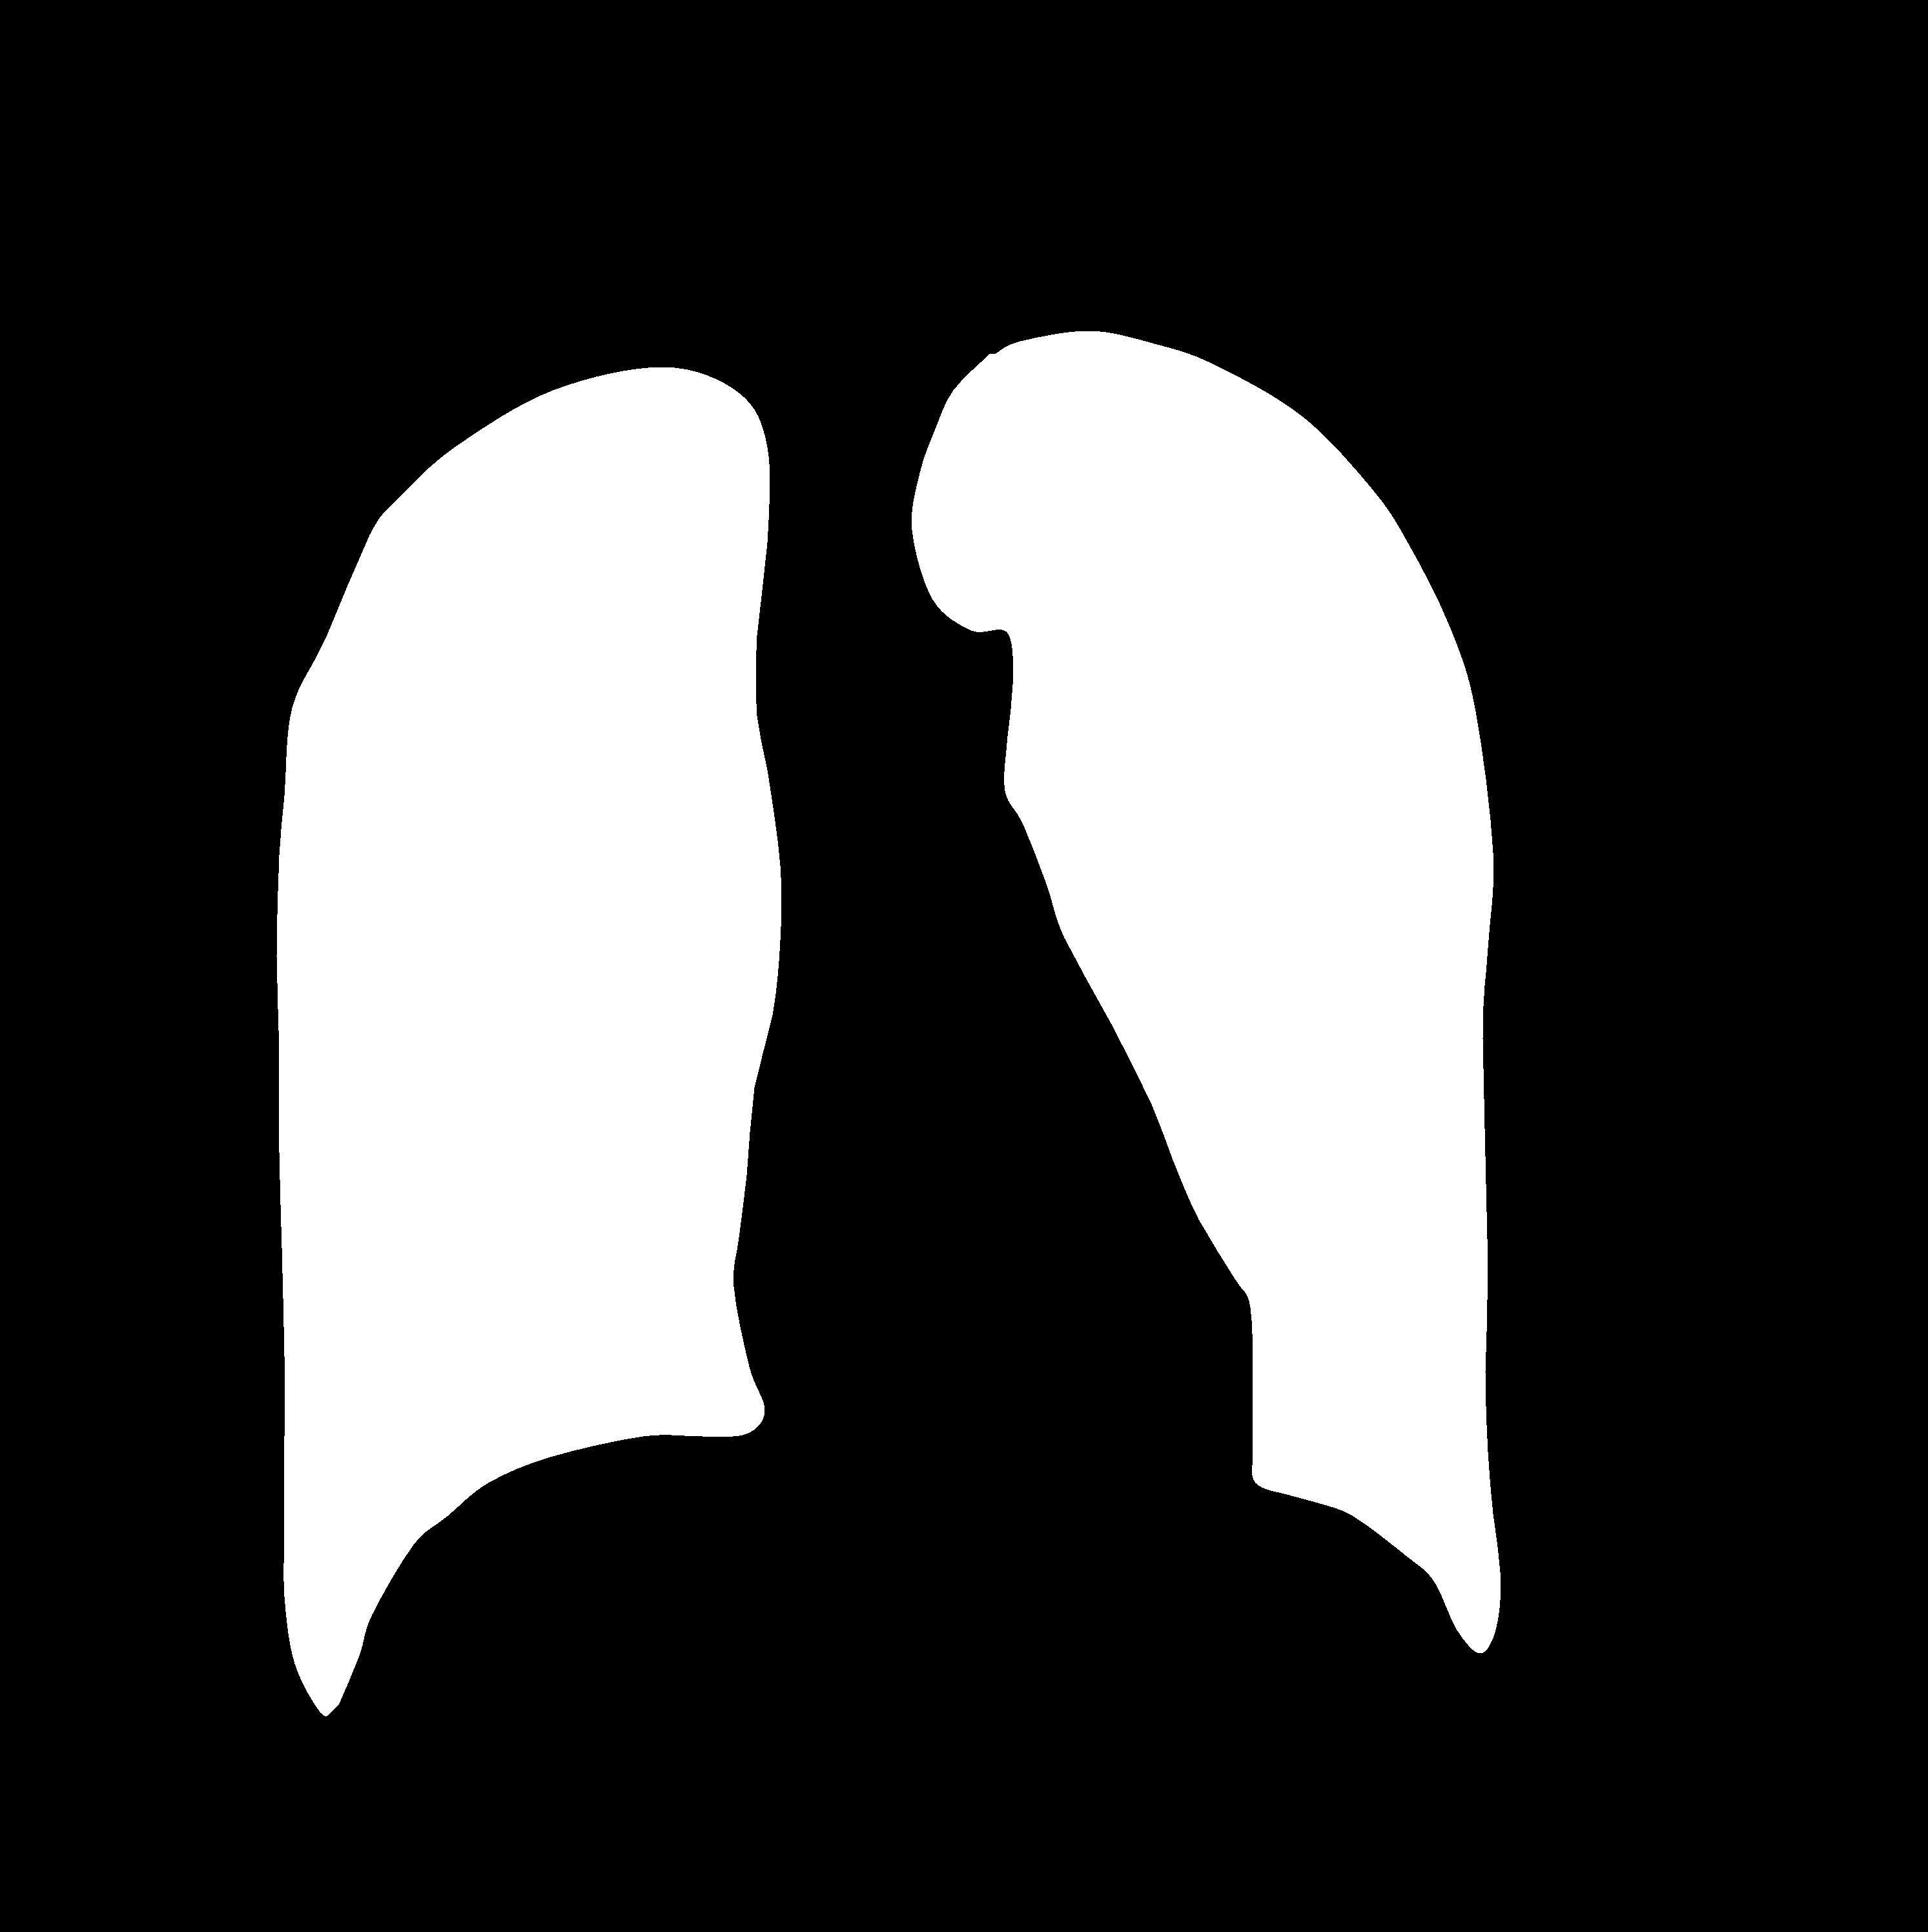heart: (733, 1100, 1284, 1528)
left_lung: (277, 367, 780, 1717)
right_lung: (911, 332, 1501, 1653)
